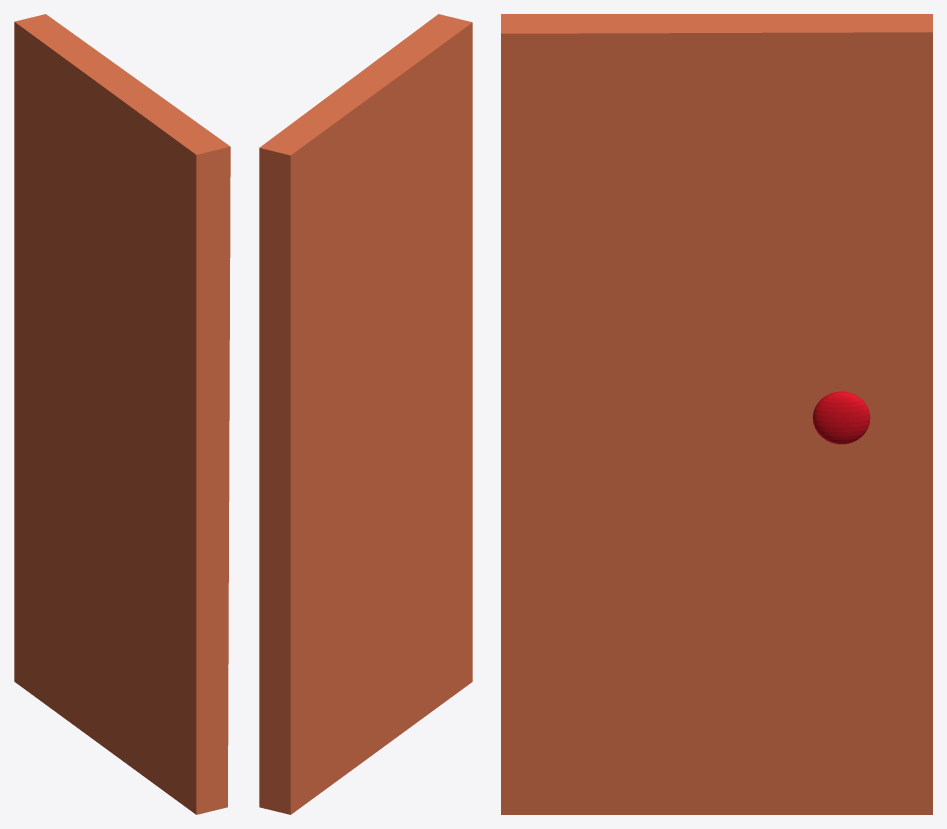
File: Door.fbx
3 views of the same model, side by side, from view 1: azimuth 30°, elevation 25°; view 2: azimuth 150°, elevation 25°; view 3: azimuth 270°, elevation 25° (orthographic). The views are drawn at different scales.
Visible parts, largest first — view 1: Sphere; view 2: Sphere; view 3: Sphere.
Part boxes in pixels (left/top/right/bottom): Sphere: left=14, top=14, right=230, bottom=814; Sphere: left=259, top=14, right=472, bottom=814; Sphere: left=501, top=14, right=932, bottom=814.
Size of the model in its own units: 10 by 150 by 75.
